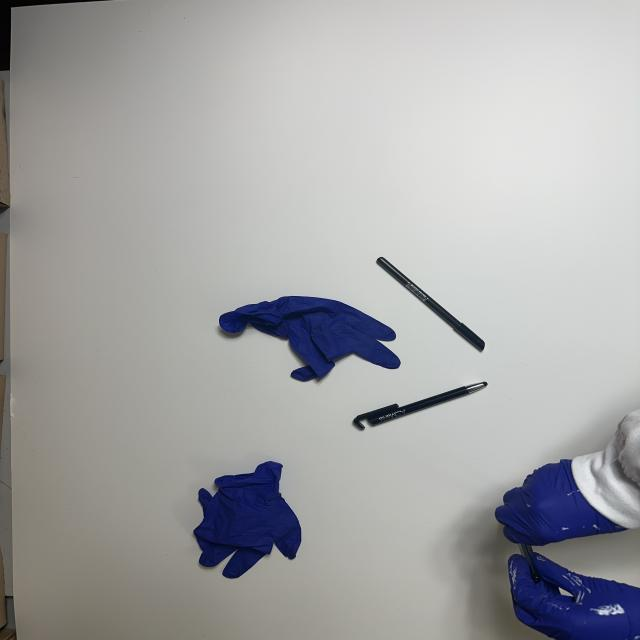glove_on: (508, 552, 640, 640), (495, 460, 625, 547)
